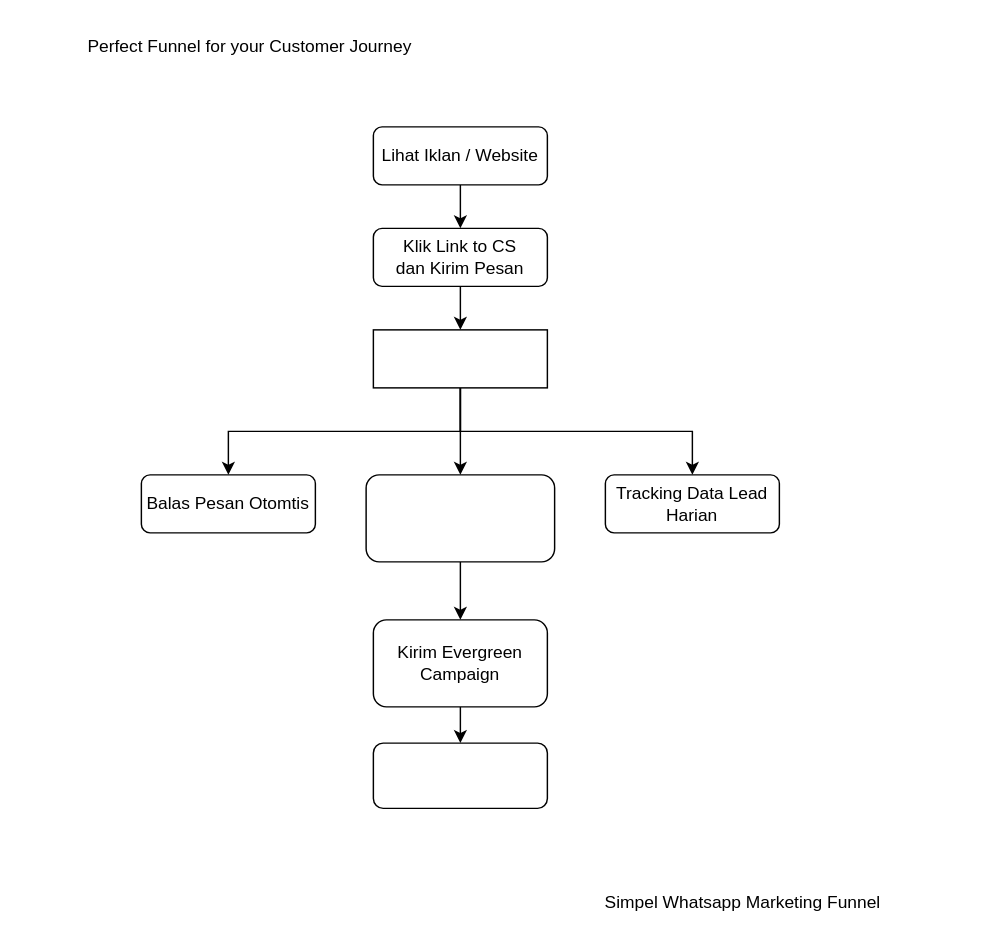
Image size: 992x948. Some labels were removed from this diagram. Each missing label, with the centre of its shape:
Closing: point (459, 775)
Dripsender BOT: point (459, 358)
Simpan Nama dan No.WA ke Dalam List: point (460, 517)
